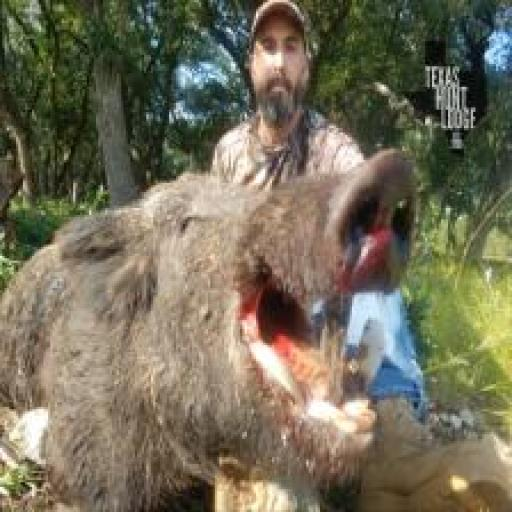Pig: (0, 148, 416, 512)
